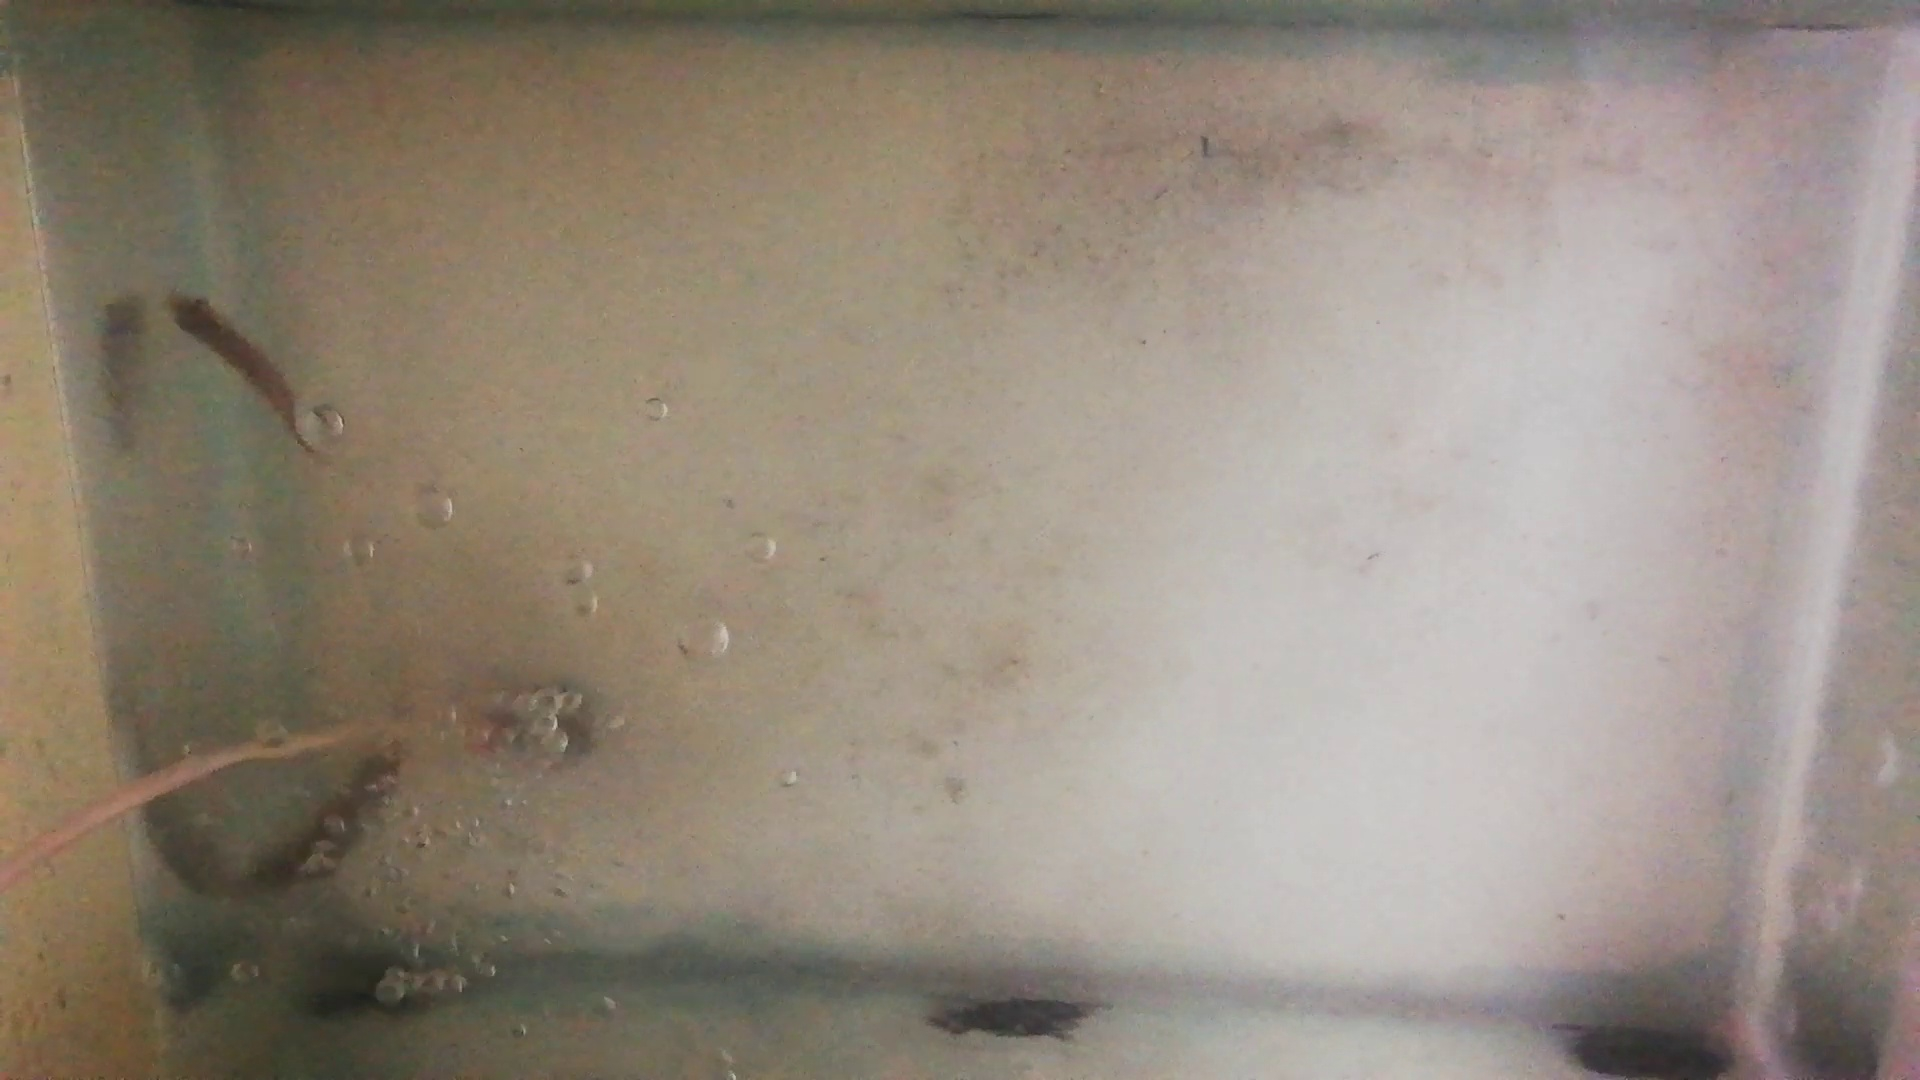fish: (158, 287, 303, 439), (261, 752, 404, 881)
